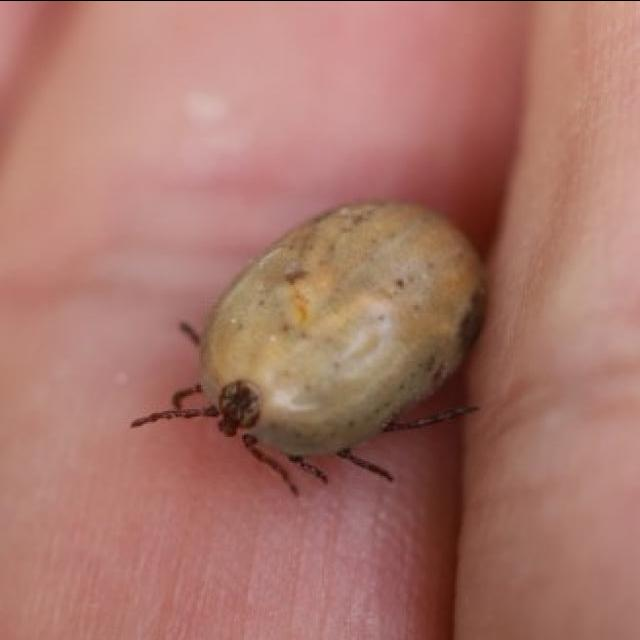Dermacentor Reticulatus-F-Fed: (137, 200, 488, 497)
